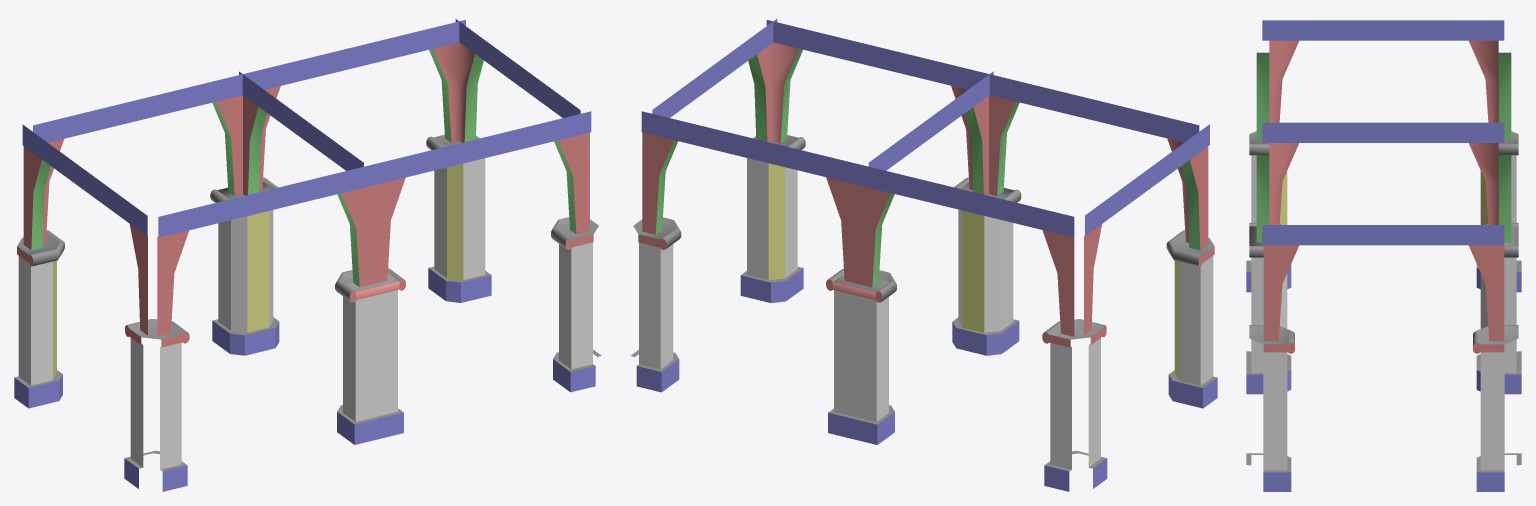
Rendered from SSQ_dungeon_S__SSQ_crossway01.gltf.
3 renders of one model, left to right at view 1: azimuth 30°, elevation 25°; view 2: azimuth 150°, elevation 25°; view 3: azimuth 270°, elevation 25°, orthographic. The views are drawn at different scales.
Parts seen in each view (by area): view 1: SSQ_crossway01; view 2: SSQ_crossway01; view 3: SSQ_crossway01.
Part boxes in pixels (left/top/right/bottom): SSQ_crossway01: left=14, top=19, right=601, bottom=491; SSQ_crossway01: left=631, top=19, right=1217, bottom=491; SSQ_crossway01: left=1246, top=20, right=1521, bottom=491.
Bounding box in the file's own units: 6.84 × 3.84 × 3.64.
